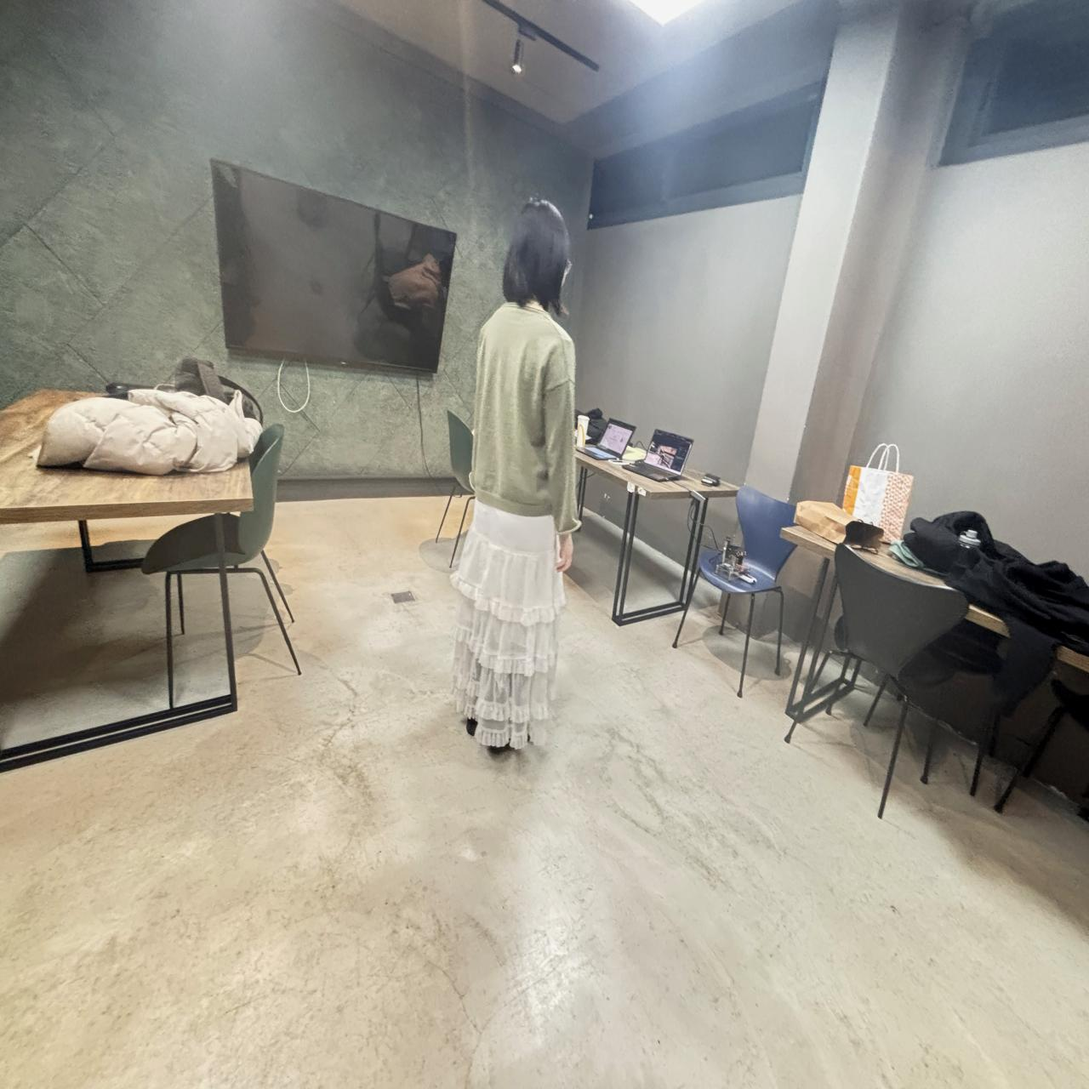person: (453, 200, 579, 748)
